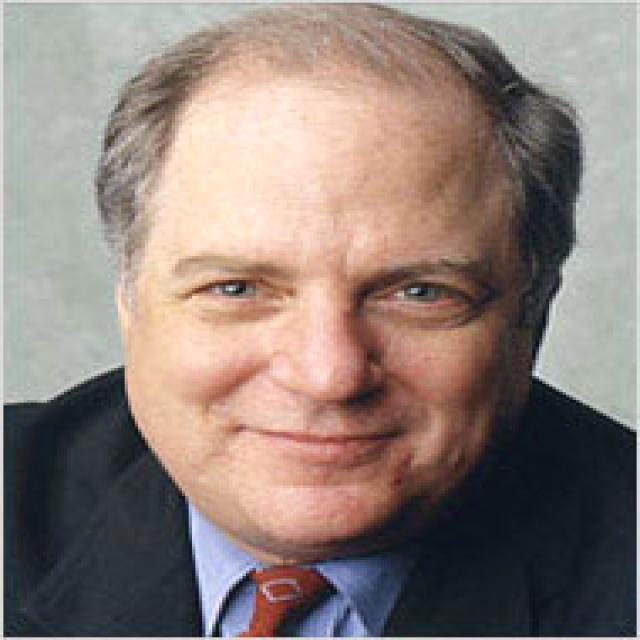normal_face: (111, 35, 535, 506)
